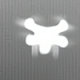plane: (16, 14, 76, 59)
